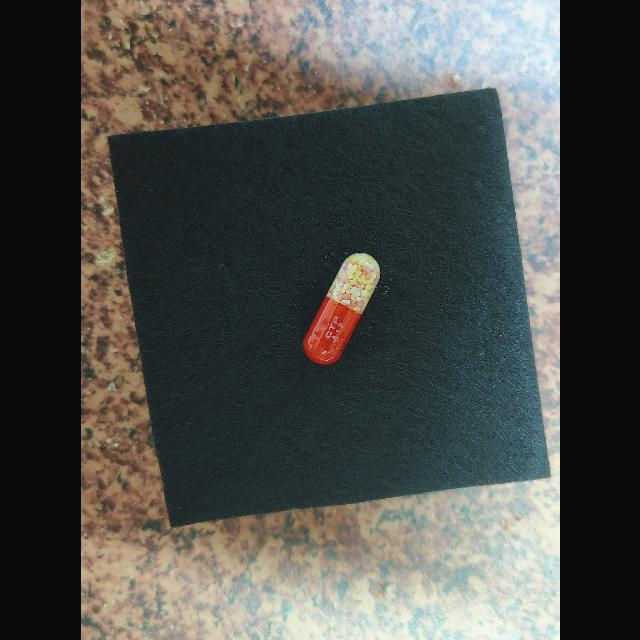Intact Capsule: (302, 253, 380, 365)
